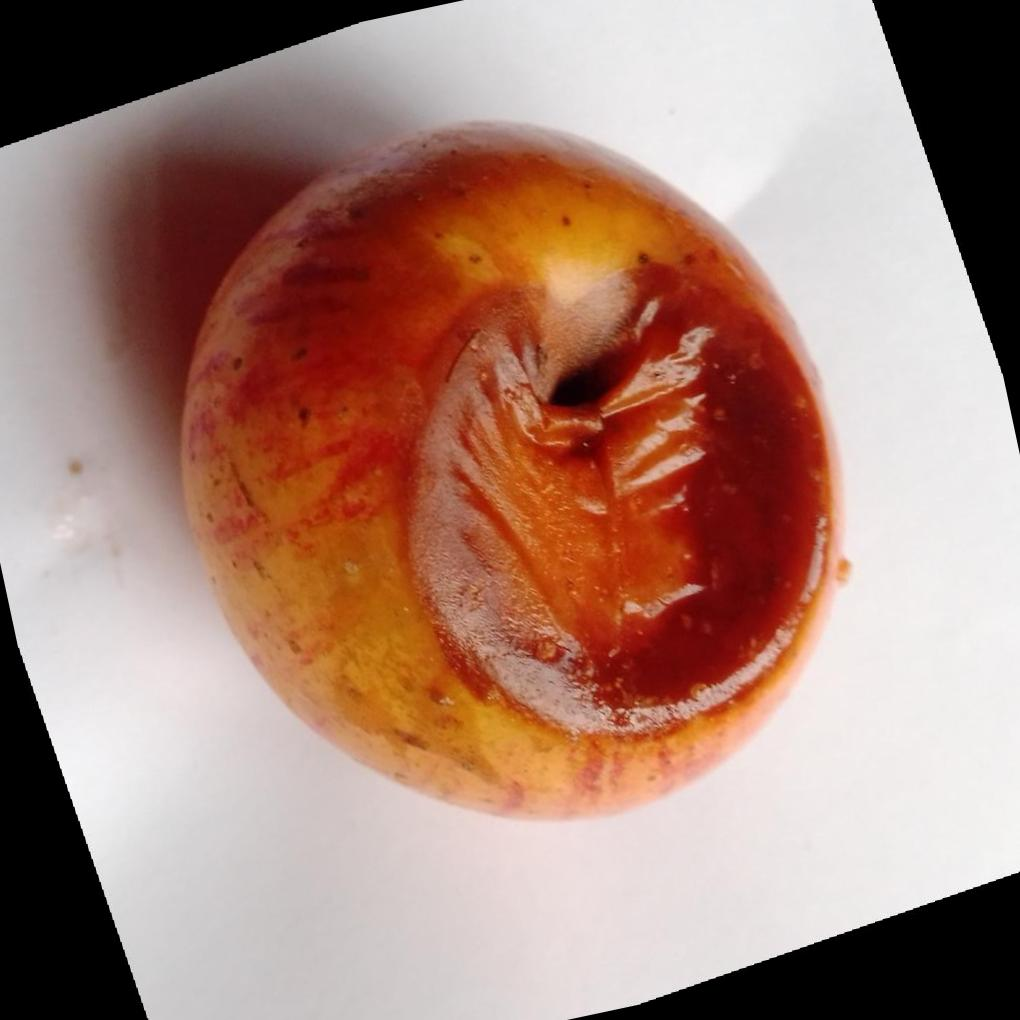FreshOrange: (179, 118, 847, 822)
